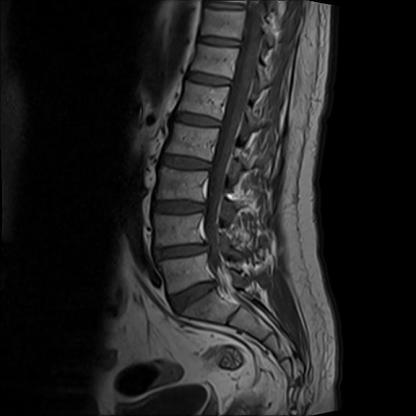Degenerative Disc Diseaserotation: (167, 280, 227, 310), (149, 239, 216, 264)
Disc Bulgerotation: (149, 240, 217, 264)
Disc Relaxationrotation: (145, 193, 214, 221)
